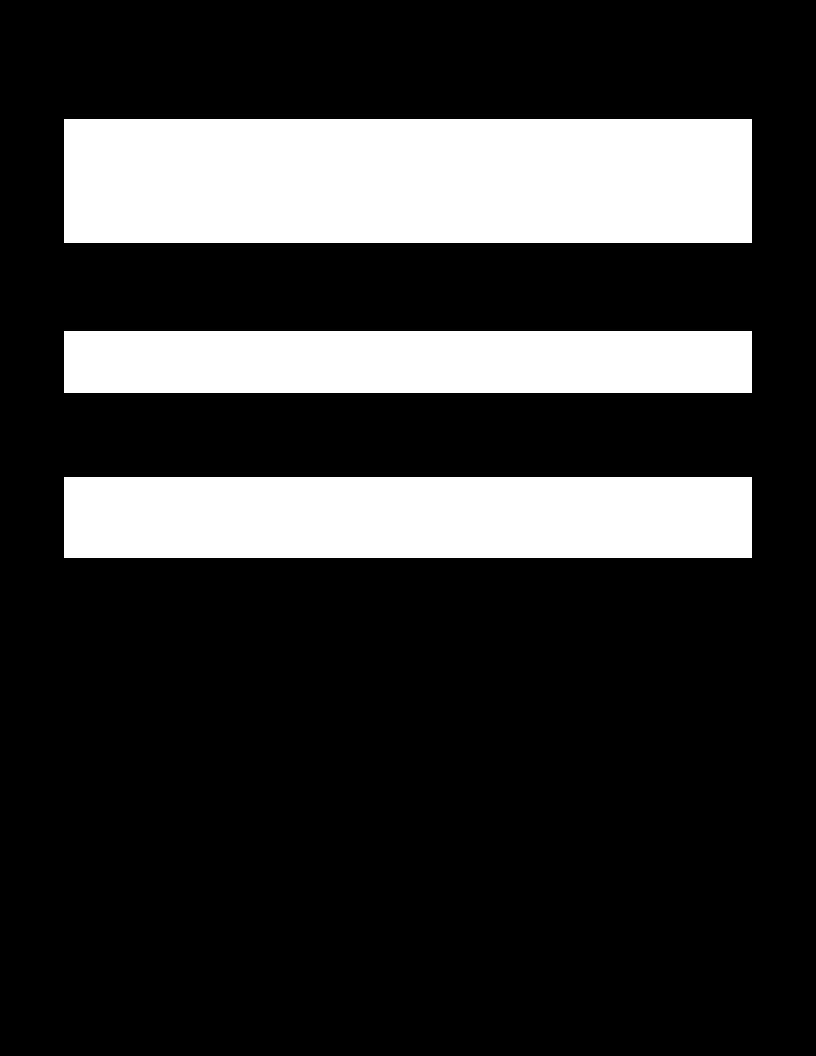table: (64, 119, 751, 242), (64, 477, 751, 557), (64, 331, 751, 392)
